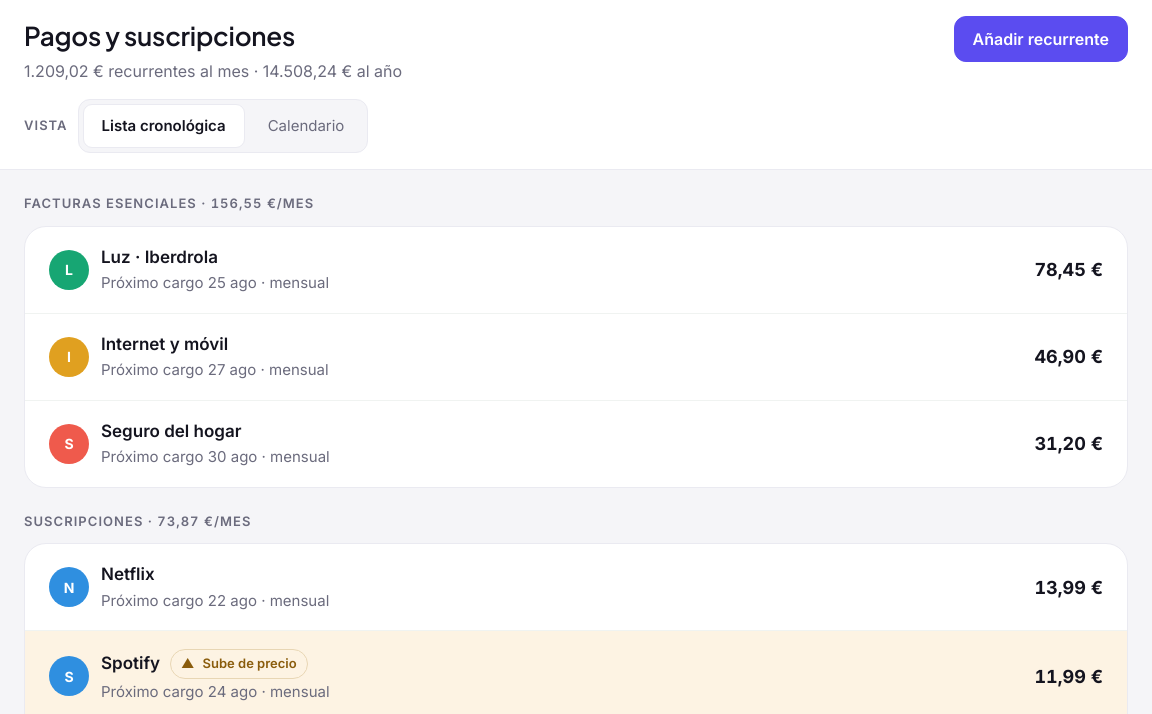
Test: RecurringPage › switching to Calendario does not navigate and shows no wrapped amounts
Click the button "Calendario": (306, 126) [249,104,363,148]
(page scrolled)
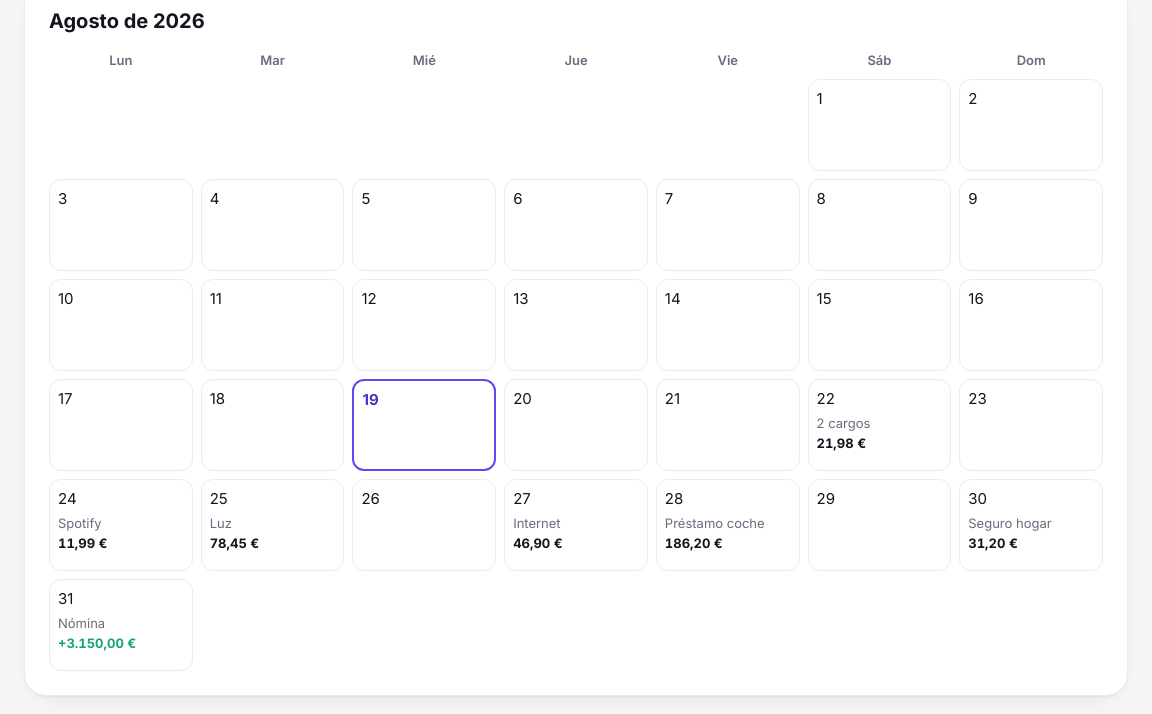
Expected: the text "186,20 €" is shown, [665,534,723,550]
Result: the text "Agosto de 2026" is shown at [49,9,205,33]
